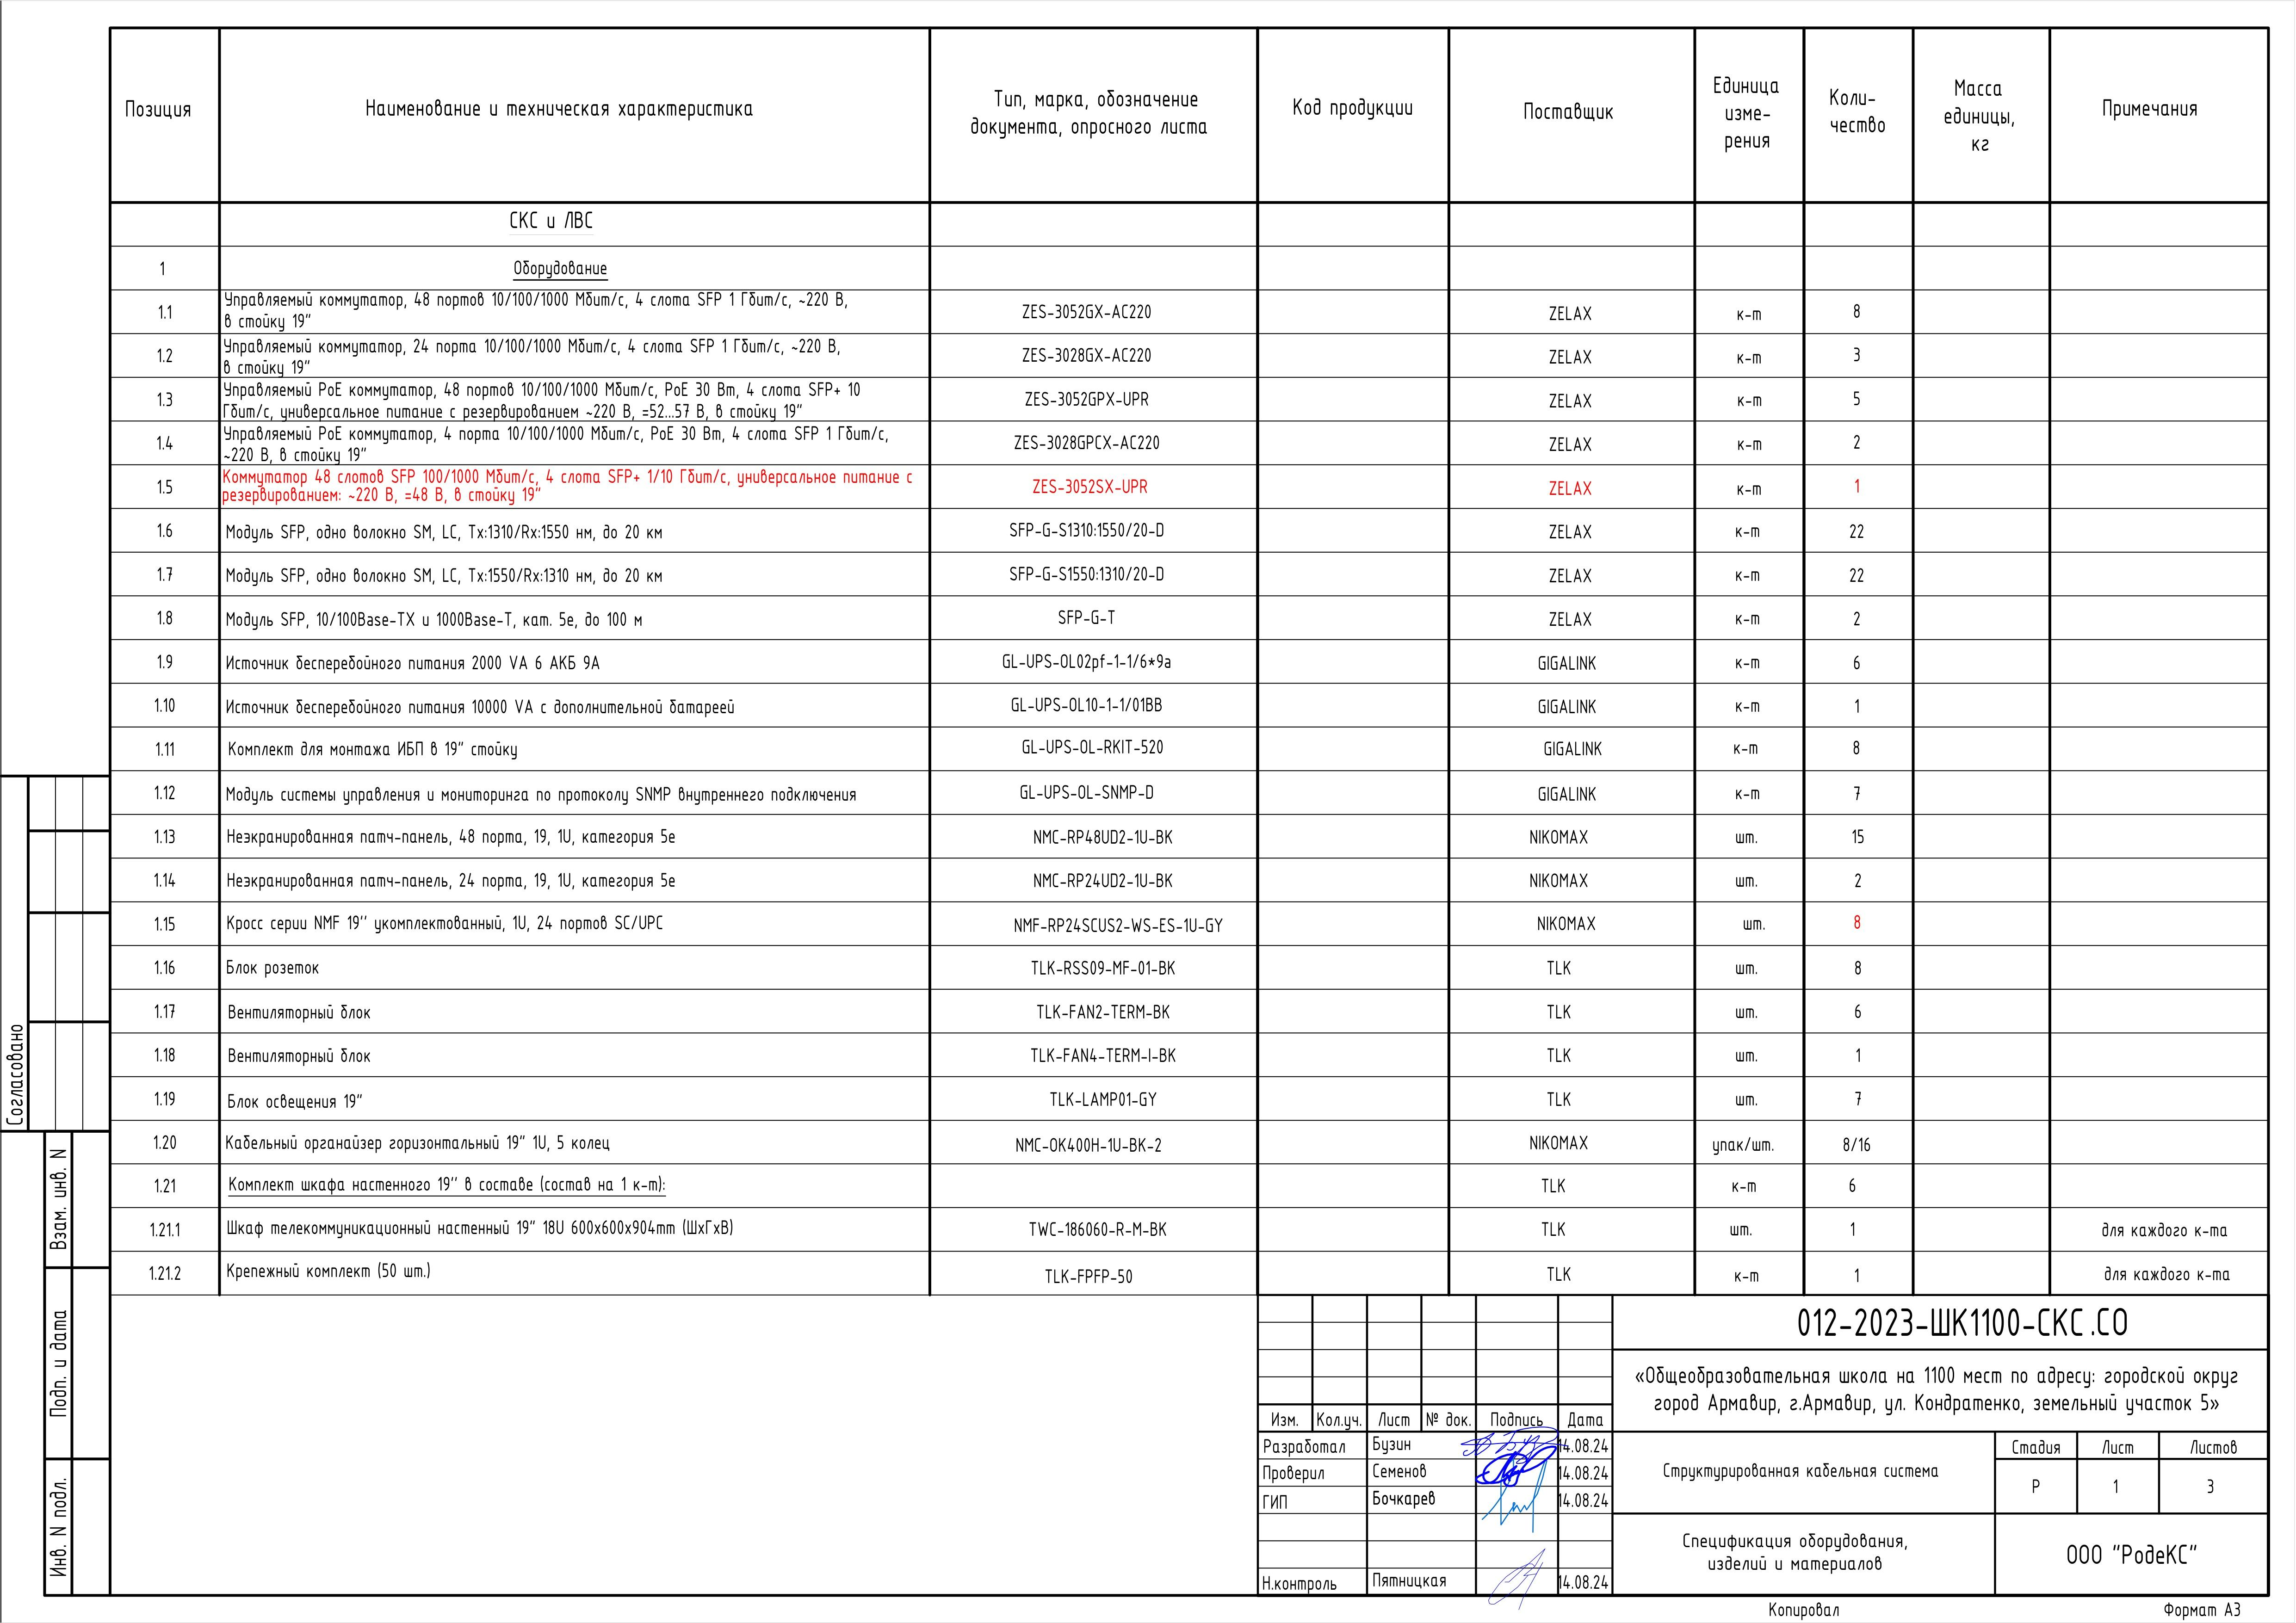Name of costs: (216, 206, 928, 1296)
Note: (931, 206, 1256, 1293)
Quantity: (1802, 202, 1915, 1295)
Unit of measurement: (1693, 202, 1802, 1295)
